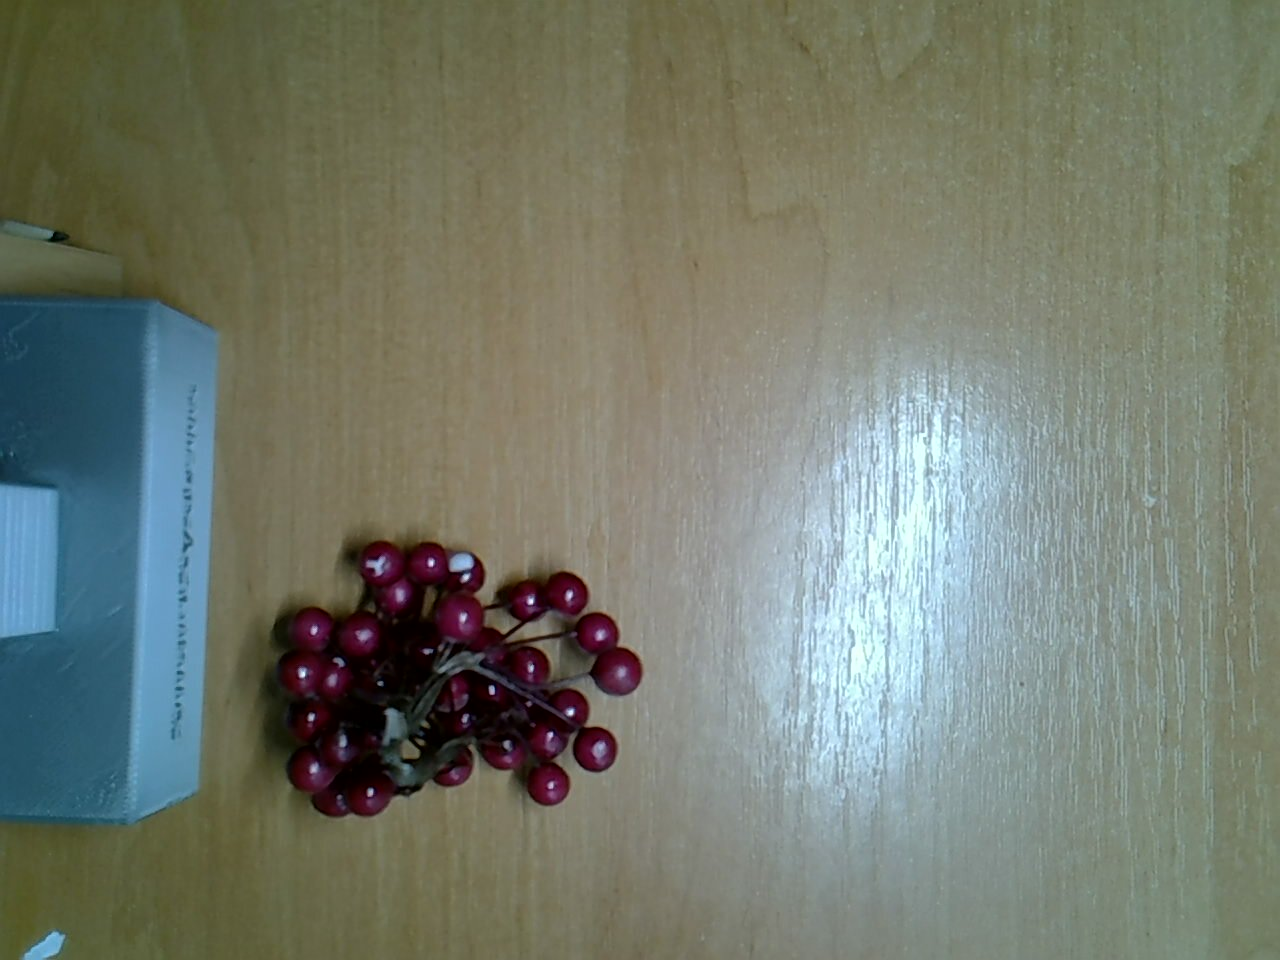berries: (261, 532, 654, 827)
